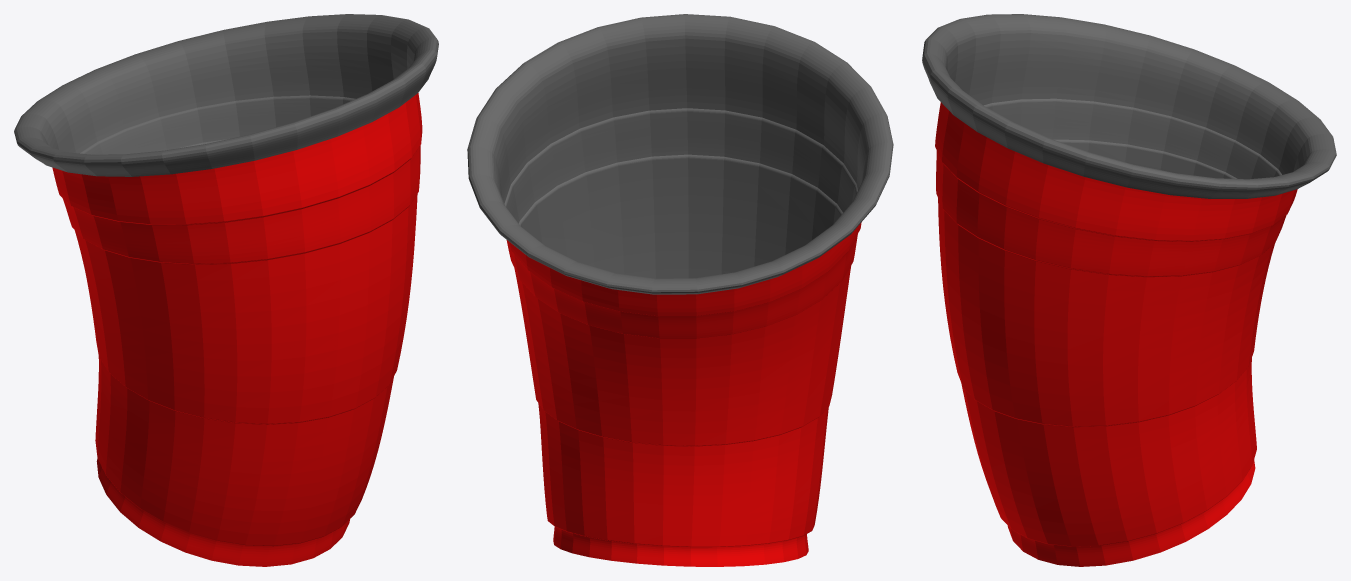
File: bend_low_1.obj
The picture shows the model from 3 angles, left to right: view 1: azimuth 30°, elevation 25°; view 2: azimuth 150°, elevation 25°; view 3: azimuth 270°, elevation 25°; orthographic projection.
Visible parts, largest first — view 1: model; view 2: model; view 3: model.
Boxes of the visible parts, x1,y1,x2,y2 form: model: (14,14,438,566); model: (467,14,893,566); model: (922,14,1336,566).
Bounding box in the file's own units: 0.0958 × 0.1196 × 0.0935.
Materials: 1 (1 with a texture image).
